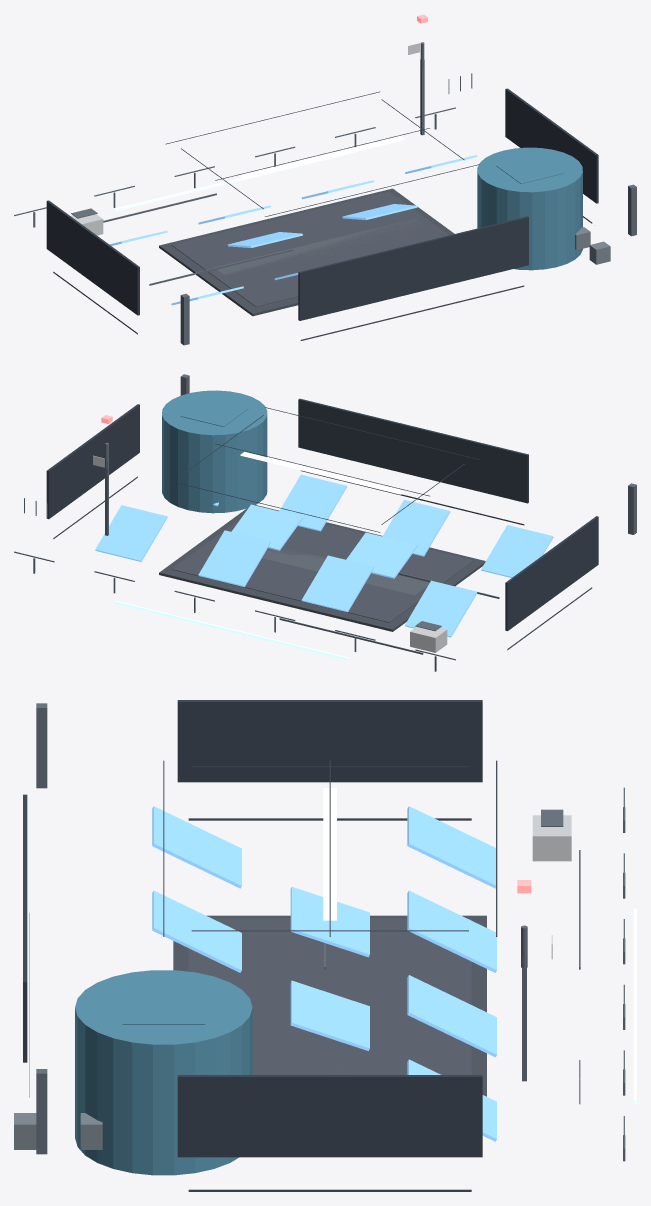
File: floor-rooftop.glb
3 renders of one model, top to bottom at view 1: azimuth 30°, elevation 25°; view 2: azimuth 150°, elevation 25°; view 3: azimuth 270°, elevation 25°, orthographic. The views are drawn at different scales.
Visible parts, largest first — view 1: IntFloor_rooftop, WallBack_rooftop, Reservoir.001, WallL_rooftop, WallR_rooftop, RoofDeck, WalkwayGrate, ReservoirLid, LightStrip_rooftop, Reveal_rooftop, SolarCenter_1, SolarCenter_0 (+1 smaller); view 2: WallBack_rooftop, Reservoir.001, IntFloor_rooftop, WallL_rooftop, WallR_rooftop, RoofDeck, Solar_1_2, Solar_1_1, Solar_1_3, Solar_0_0, Solar_0_2, Solar_1_0 (+9 smaller); view 3: IntFloor_rooftop, WallR_rooftop, WallL_rooftop, Reservoir.001, Solar_0_1, Solar_0_0, Solar_1_2, Solar_1_1, Solar_1_0, SolarCenter_1, SolarCenter_0, ReservoirLid (+12 smaller).
Part boxes in pixels (box(x1,y1,x2,y2)): IntFloor_rooftop: box(171, 191, 448, 306); WallBack_rooftop: box(298, 216, 528, 320); Reservoir.001: box(477, 147, 582, 270); WallL_rooftop: box(46, 200, 139, 315); WallR_rooftop: box(505, 88, 598, 203); RoofDeck: box(159, 188, 454, 316); WalkwayGrate: box(214, 219, 421, 275); ReservoirLid: box(496, 155, 563, 183); LightStrip_rooftop: box(240, 136, 404, 178); Reveal_rooftop: box(114, 153, 348, 211); SolarCenter_1: box(342, 204, 417, 219); SolarCenter_0: box(227, 232, 302, 247); WallBack_rooftop: box(298, 398, 528, 503); Reservoir.001: box(162, 390, 267, 513); IntFloor_rooftop: box(171, 518, 473, 622); WallL_rooftop: box(505, 516, 598, 631); WallR_rooftop: box(46, 404, 139, 519); RoofDeck: box(159, 505, 485, 631); Solar_1_2: box(198, 530, 270, 587); Solar_1_1: box(301, 555, 373, 612); Solar_1_3: box(95, 505, 167, 561); Solar_0_0: box(481, 525, 553, 577); Solar_0_2: box(279, 474, 346, 531); Solar_1_0: box(405, 580, 477, 637); IntFloor_rooftop: box(188, 918, 471, 1074); WallR_rooftop: box(177, 1075, 482, 1157); WallL_rooftop: box(177, 700, 482, 782); Reservoir.001: box(75, 970, 252, 1175); Solar_0_1: box(152, 890, 241, 972); Solar_0_0: box(152, 806, 241, 888); Solar_1_2: box(407, 975, 496, 1057); Solar_1_1: box(407, 890, 496, 972); Solar_1_0: box(407, 806, 495, 888); SolarCenter_1: box(290, 980, 369, 1050); SolarCenter_0: box(290, 887, 369, 957); ReservoirLid: box(122, 988, 205, 1024).
Bounding box in the file's own units: 16.08 × 5.2 × 11.23.
